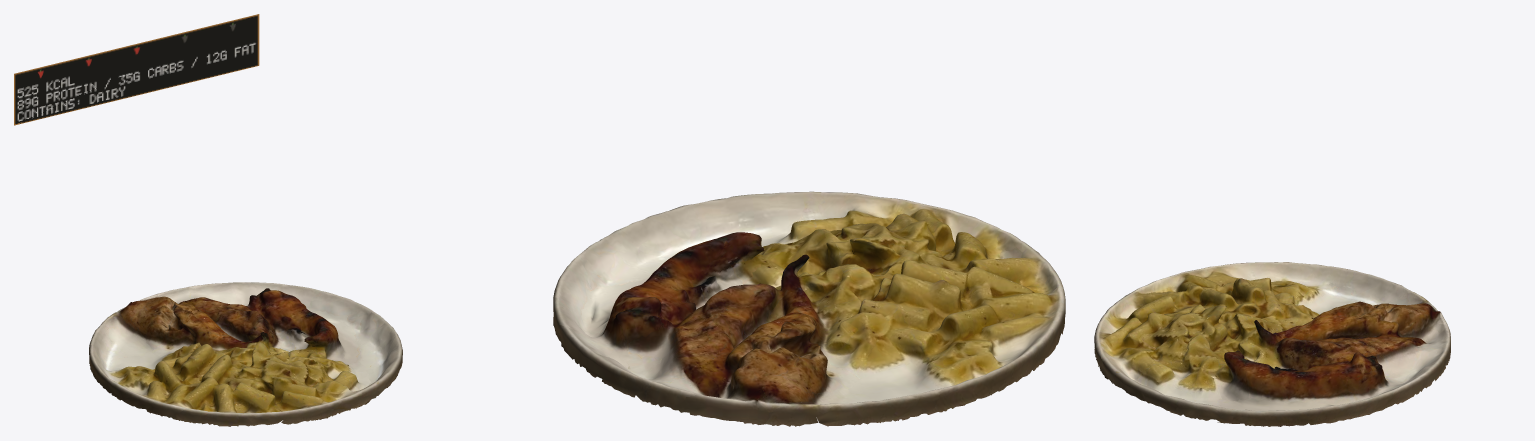
3 renders of one model, left to right at view 1: azimuth 30°, elevation 25°; view 2: azimuth 150°, elevation 25°; view 3: azimuth 270°, elevation 25°, orthographic. The views are drawn at different scales.
Visible parts, largest first — view 1: geom, nutrition-panel-node; view 2: geom; view 3: geom.
Part boxes in pixels (bbox=[...]): geom: bbox=[89, 282, 402, 426]; nutrition-panel-node: bbox=[14, 14, 259, 125]; geom: bbox=[553, 191, 1065, 426]; geom: bbox=[1094, 262, 1450, 426].
Size of the model in its own units: 0.2841 by 0.2449 by 0.3403.
Materials: 2 (2 with a texture image).
